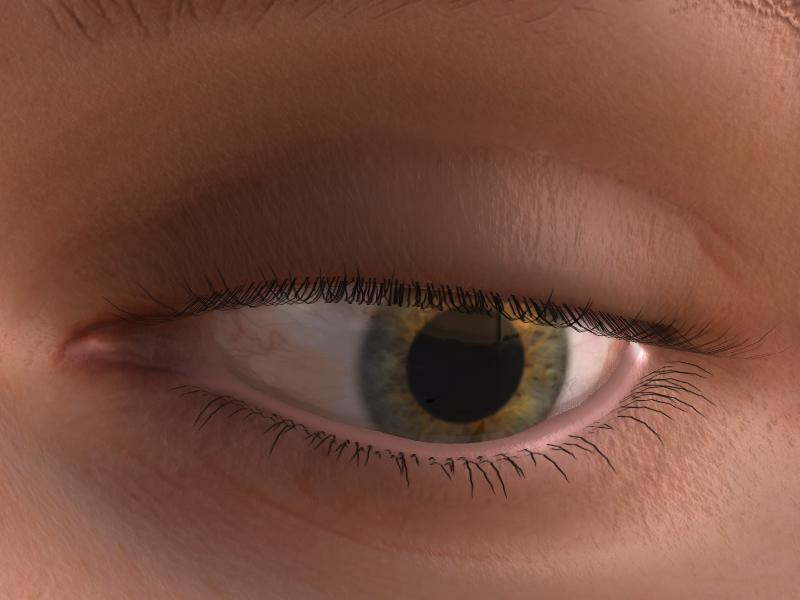eye: (356, 286, 569, 441)
